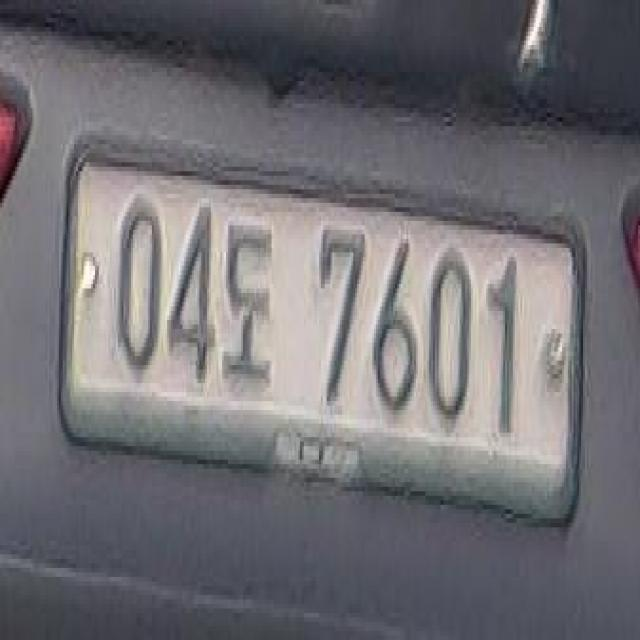illegal_plate: (67, 152, 587, 530)
